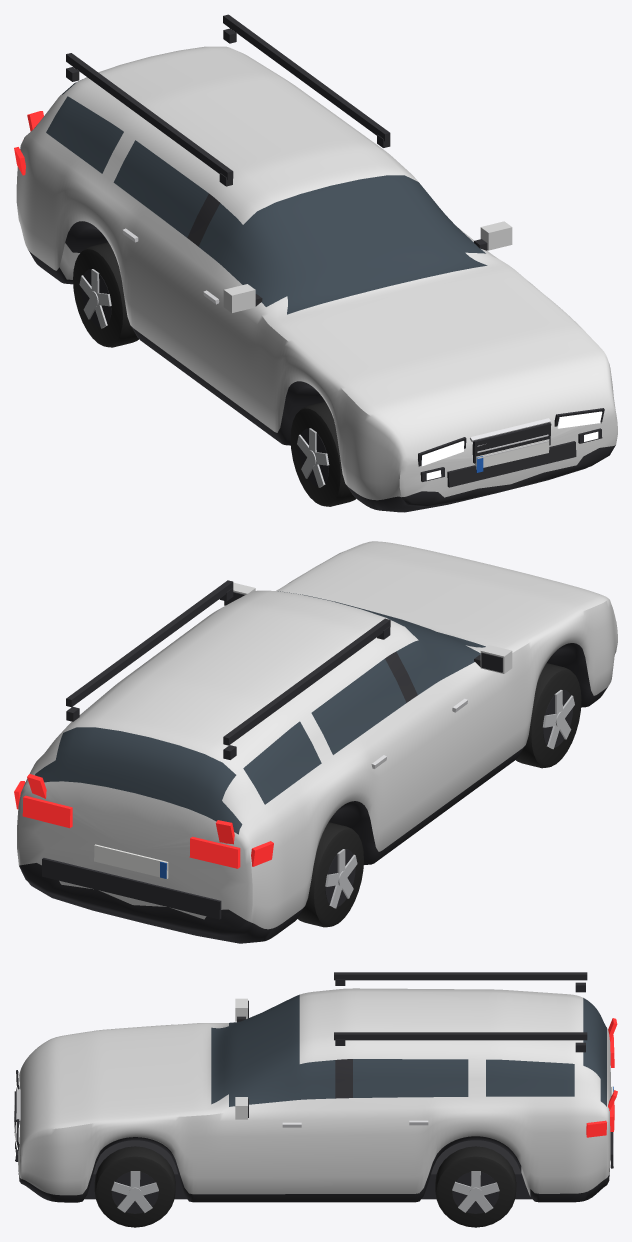
File: car_octavia_combi.glb
3 views of the same model, one above another, from view 1: azimuth 30°, elevation 25°; view 2: azimuth 150°, elevation 25°; view 3: azimuth 270°, elevation 25° (orthographic). The views are drawn at different scales.
Parts seen in each view (by area): view 1: car_octavia_combi; view 2: car_octavia_combi; view 3: car_octavia_combi.
Boxes of the visible parts, left/top/right/bottom form: car_octavia_combi: left=14, top=14, right=617, bottom=512; car_octavia_combi: left=14, top=541, right=617, bottom=943; car_octavia_combi: left=14, top=972, right=617, bottom=1227.
Bounding box in the file's own units: 2 × 1.56 × 4.77.
